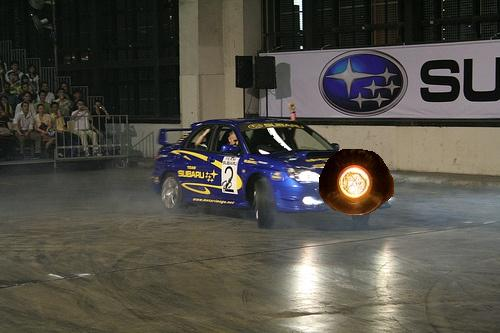tampered: (320, 150, 394, 215)
